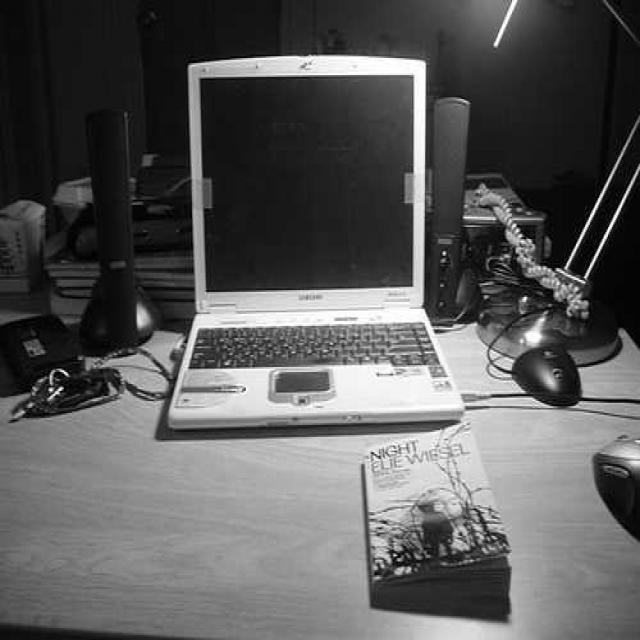laptop: (182, 60, 462, 423)
